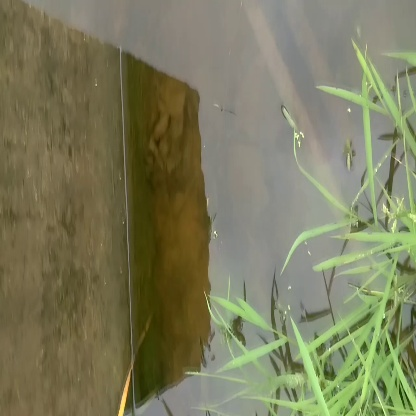grass: (243, 204, 416, 411)
